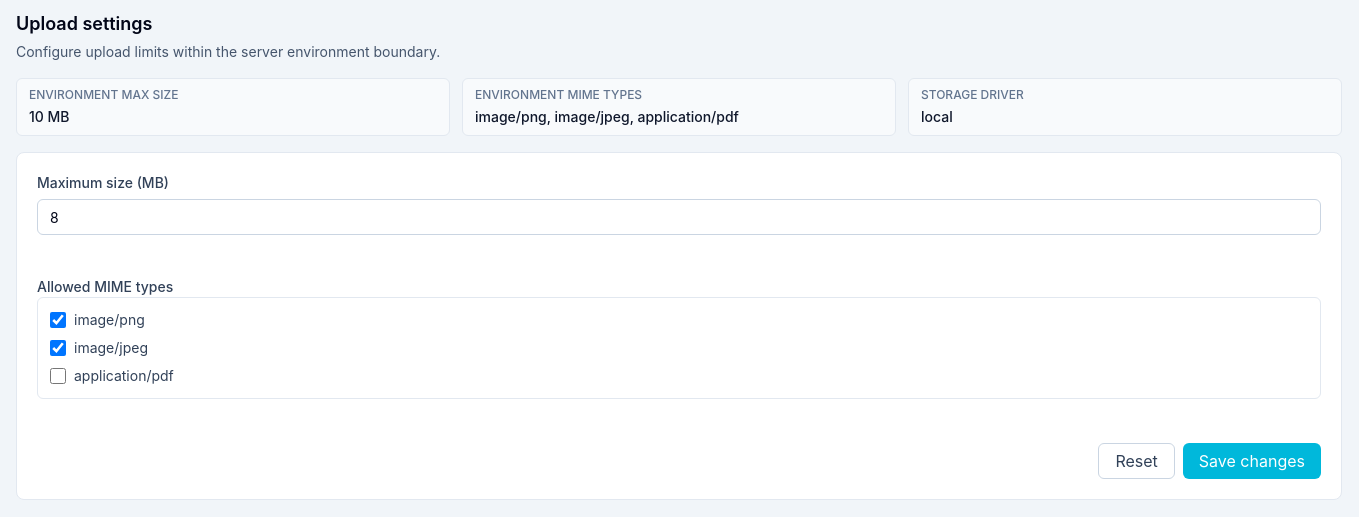
Test: UploadSettingsPage › does not submit a max size above the environment maximum
Replace the text in the number field labelled "Maximum size (MB)" with "11" at (679, 217), box [37,199,1321,235]
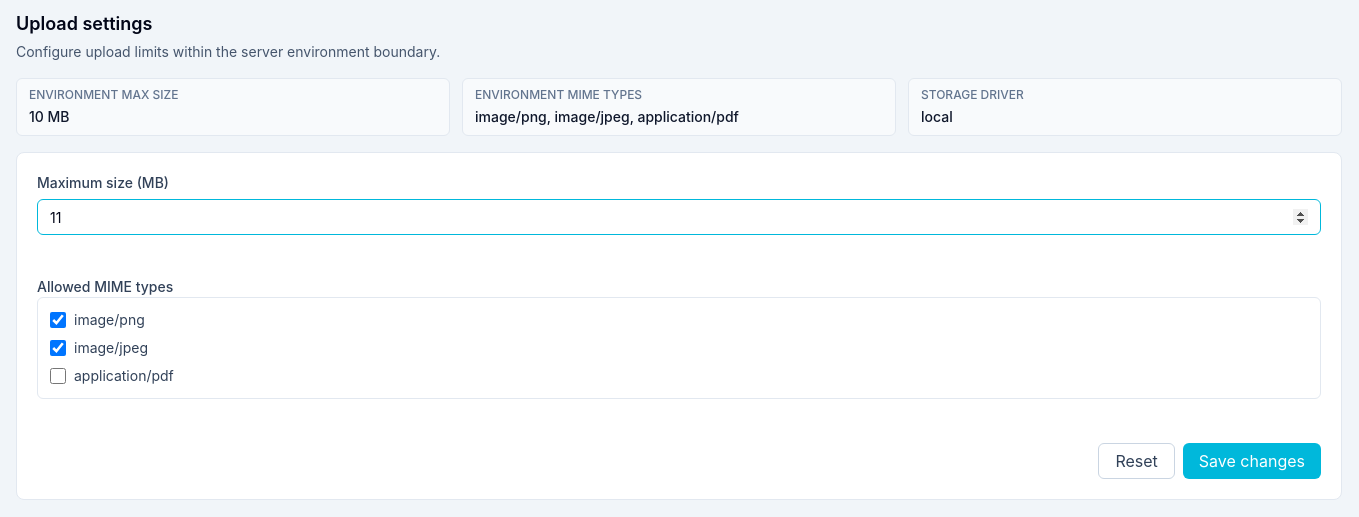
Click the button "Save changes" at (1252, 461), box [1183,443,1321,479]
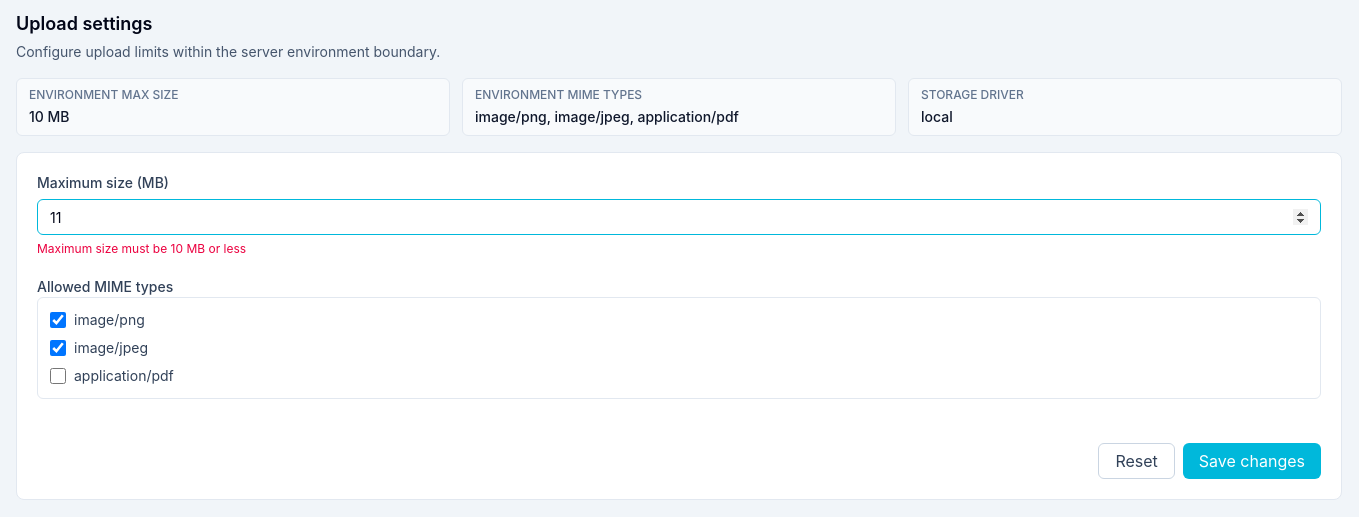
Result: the text "Maximum size must be 10 MB or less" is shown at [37,241,246,256]
